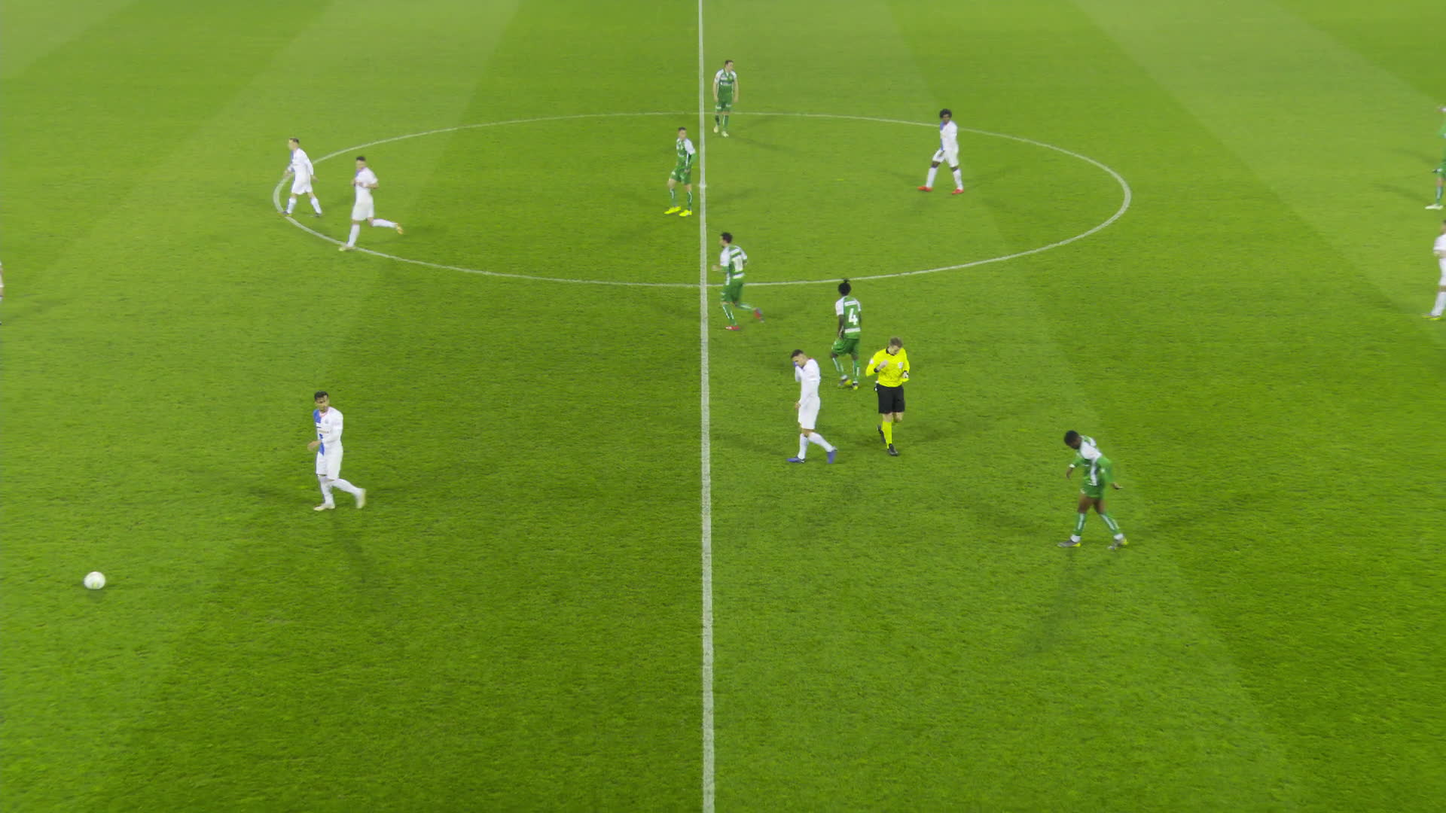ball: (81, 569, 105, 592)
player: (1057, 428, 1127, 550), (782, 350, 844, 466), (311, 387, 366, 513), (346, 152, 404, 254), (716, 228, 767, 330), (828, 273, 872, 390), (277, 134, 325, 216), (661, 125, 700, 215), (925, 105, 963, 193), (1423, 221, 1445, 320), (712, 58, 740, 135), (1424, 134, 1445, 209)
referee: (866, 335, 911, 456)
